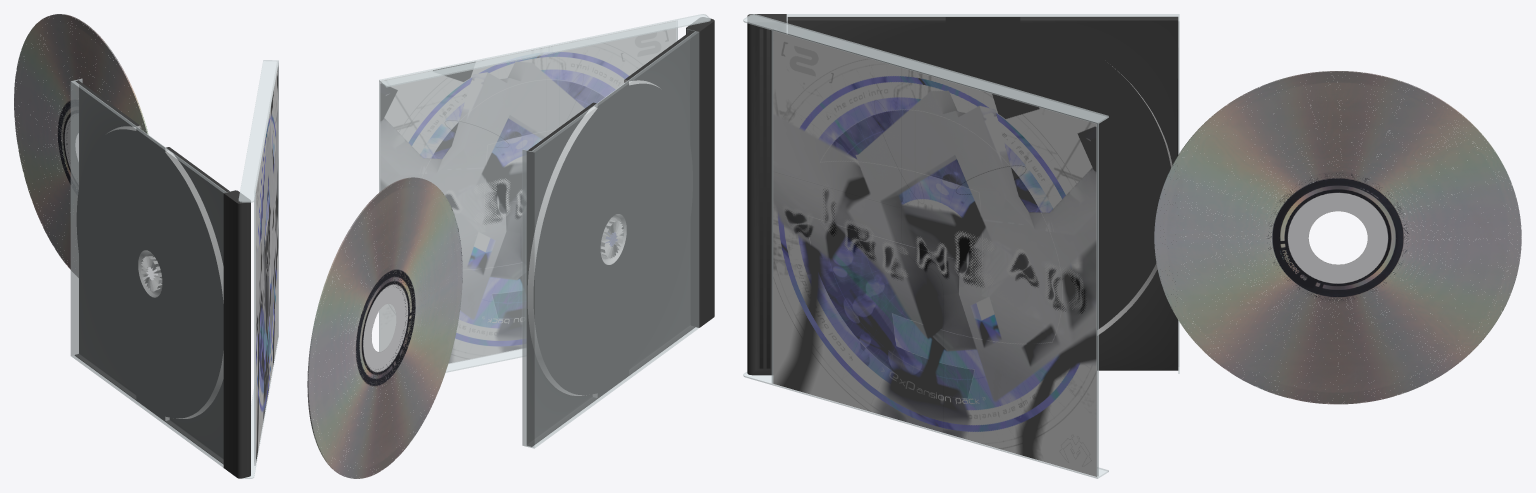
The picture shows the model from 3 angles, left to right: view 1: azimuth 30°, elevation 25°; view 2: azimuth 150°, elevation 25°; view 3: azimuth 270°, elevation 25°; orthographic projection. The views are drawn at different scales.
Visible parts, largest first — view 1: Case Back_2, CD_1, Case Front_0; view 2: Case Back_2, Case Front_0, CD_1; view 3: Case Front_0, CD_1, Case Back_2.
Boxes of the visible parts, left/top/right/bottom form: Case Back_2: left=70, top=78, right=250, bottom=478; CD_1: left=14, top=14, right=148, bottom=277; Case Front_0: left=238, top=60, right=278, bottom=478; Case Back_2: left=522, top=17, right=714, bottom=448; Case Front_0: left=379, top=14, right=710, bottom=376; CD_1: left=307, top=177, right=462, bottom=478; Case Front_0: left=743, top=14, right=1108, bottom=478; CD_1: left=1154, top=71, right=1521, bottom=404; Case Back_2: left=747, top=14, right=1179, bottom=375.
Size of what is drawn, in the model's own units: 1.33 by 2 by 3.96.
Materials: 7 (3 with a texture image).
